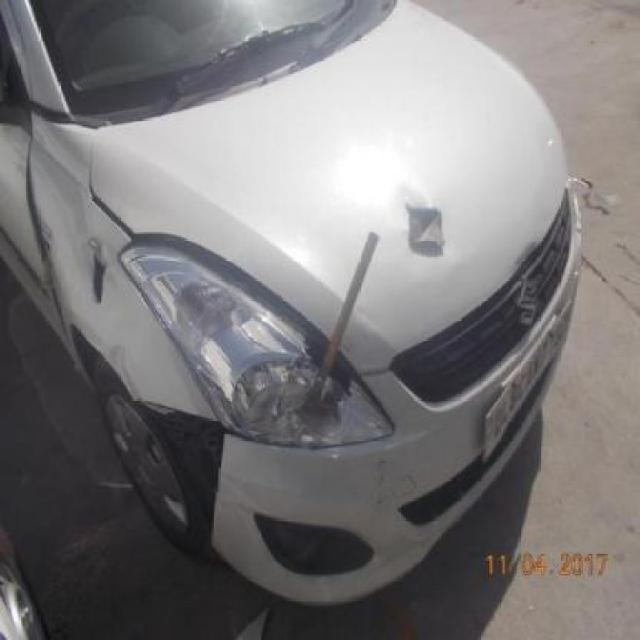damage: (128, 231, 360, 435), (134, 400, 228, 551), (24, 144, 65, 341), (403, 198, 447, 263), (88, 238, 112, 306)
